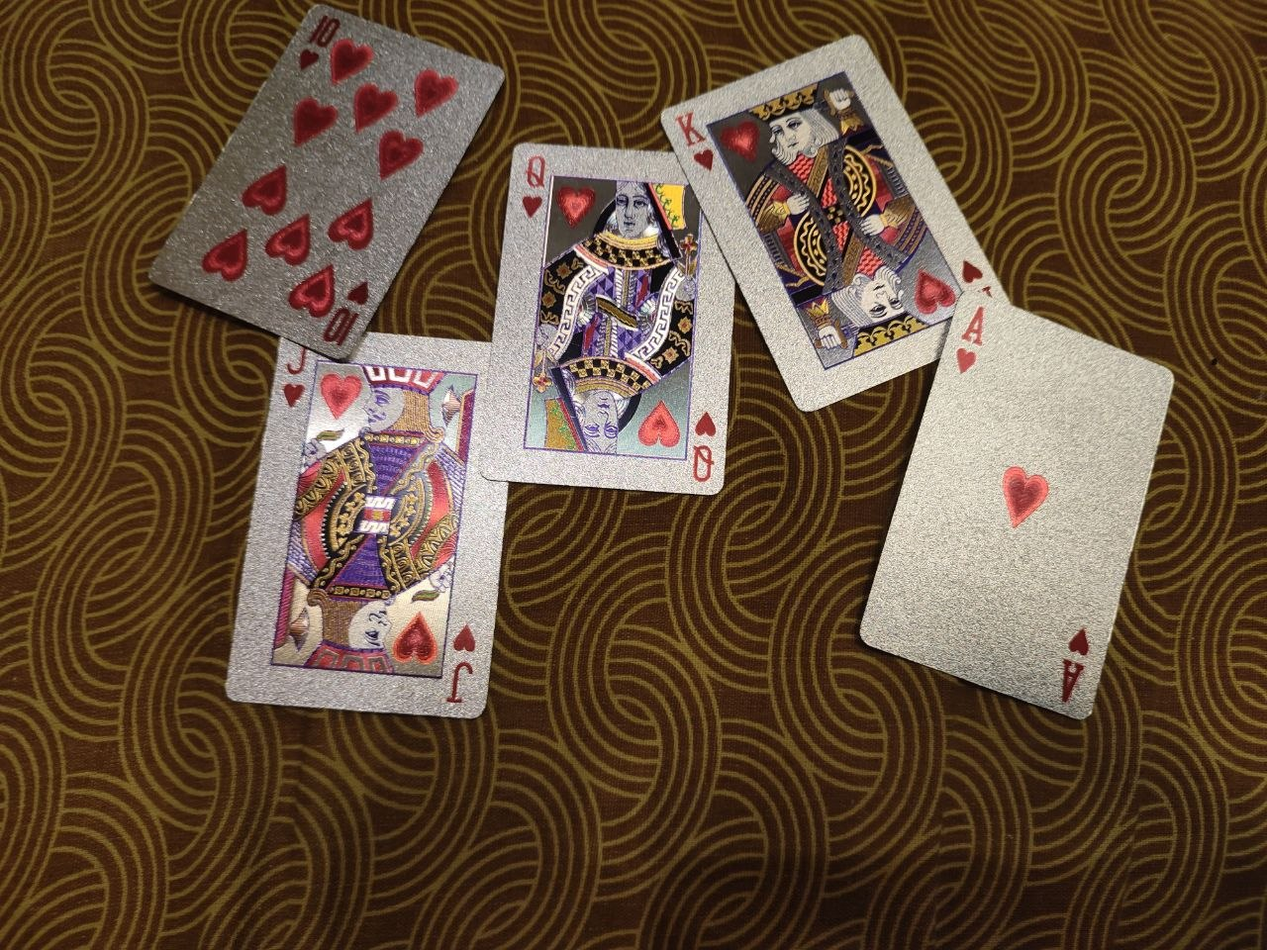10H: (147, 2, 506, 364)
AH: (856, 292, 1175, 720)
JH: (223, 331, 509, 719)
KH: (660, 33, 1012, 412)
QH: (475, 142, 736, 498)
